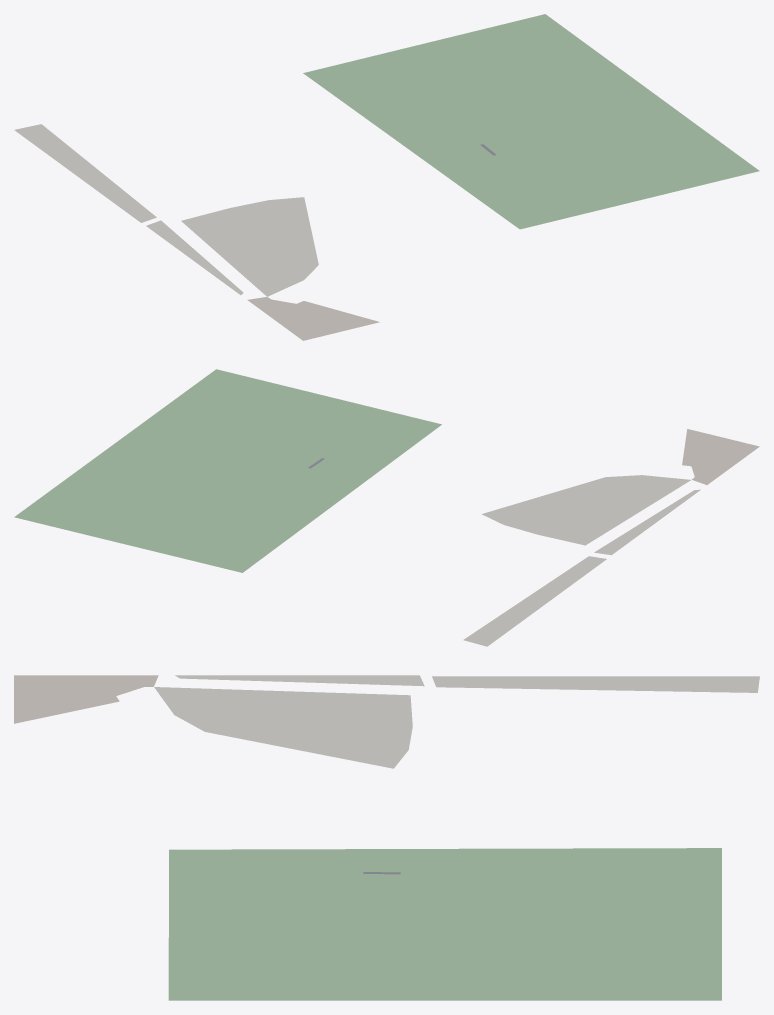
The model's file is 98_99_mid.glb.
The picture shows the model from 3 angles, top to bottom: view 1: azimuth 30°, elevation 25°; view 2: azimuth 150°, elevation 25°; view 3: azimuth 270°, elevation 25°; orthographic projection. The views are drawn at different scales.
Bounding box in the file's own units: 500 × 6.75 × 485.
